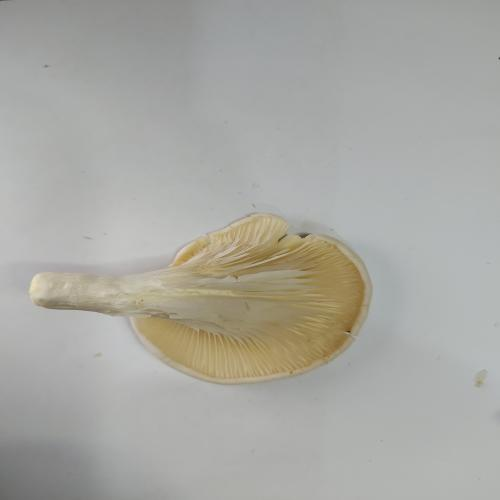Oyster Mushroom: (28, 212, 373, 386)
